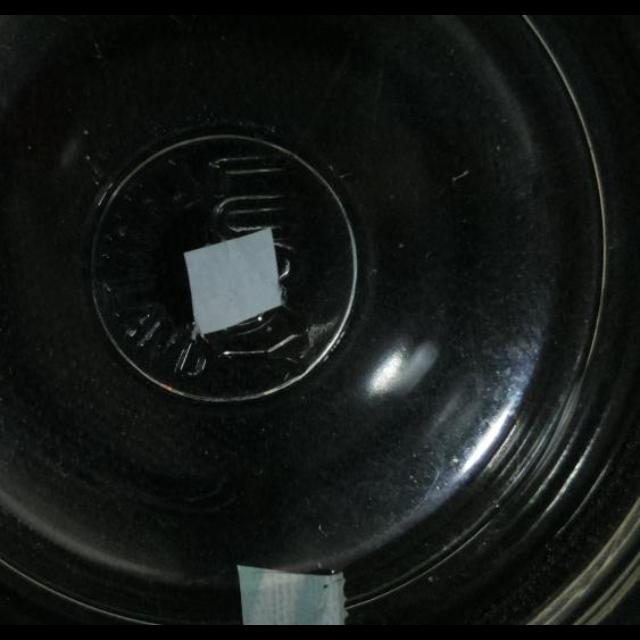Fragment: (180, 225, 286, 337), (236, 565, 348, 623)
